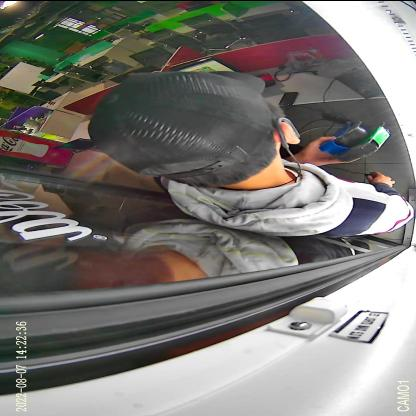green: (326, 121, 392, 162)
yellow: (318, 119, 370, 154)
